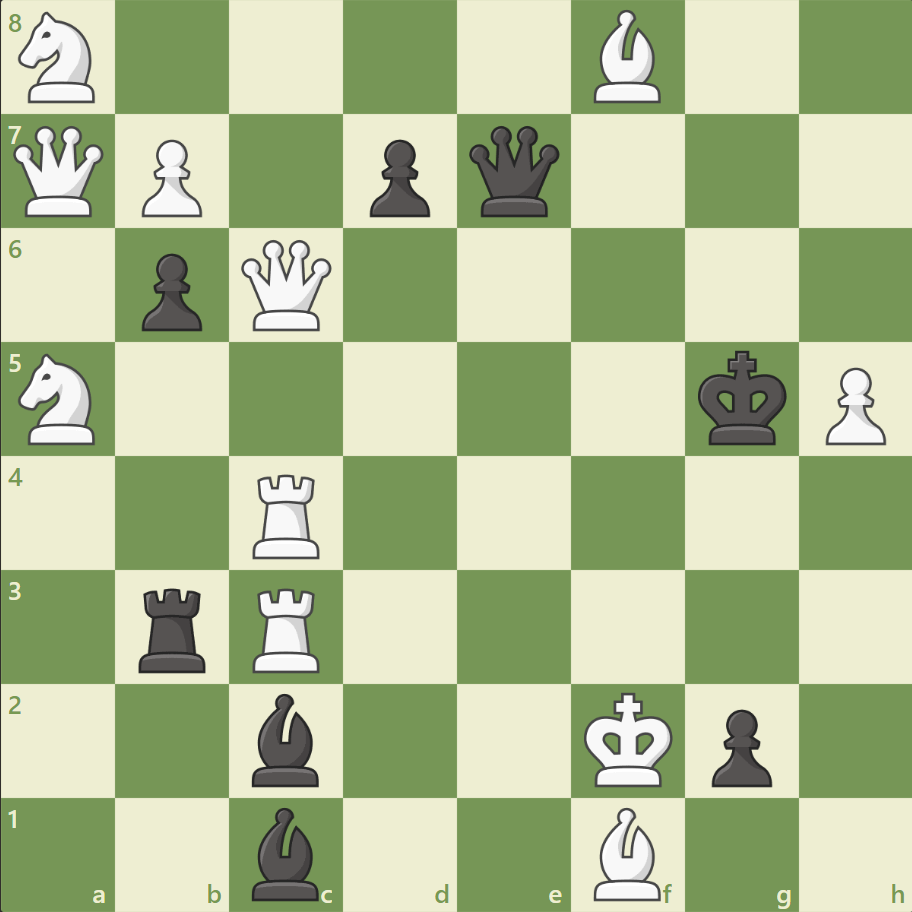B: (585, 6, 669, 109), (585, 801, 669, 904)
K: (579, 685, 679, 793)
N: (11, 7, 108, 110), (11, 348, 108, 450)
P: (133, 132, 208, 223), (815, 359, 889, 450)
Q: (10, 122, 109, 222), (237, 236, 336, 335)
R: (246, 466, 329, 563), (246, 579, 329, 676)
b: (244, 687, 328, 790), (244, 801, 328, 904)
k: (692, 344, 792, 452)
p: (133, 246, 208, 337), (701, 700, 776, 791), (361, 132, 435, 223)
q: (464, 122, 563, 222)
r: (133, 579, 215, 676)
